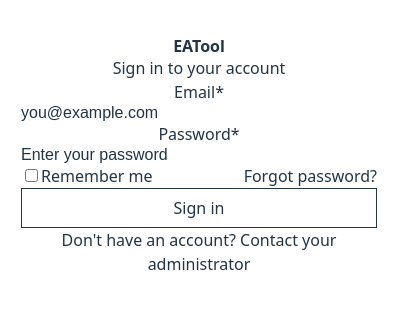
it: LoginPage › should show validation error for invalid email
In the field with placeholder "you@example.com": (199, 113) left=21, top=104, right=377, bottom=122, type "invalid-email"
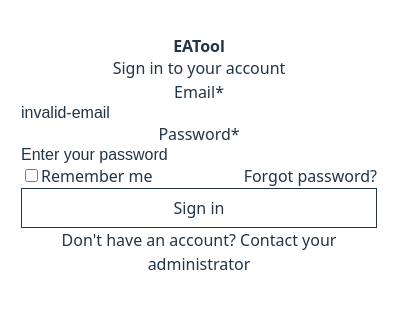
Click the button "Sign in": (199, 208) left=21, top=188, right=377, bottom=228
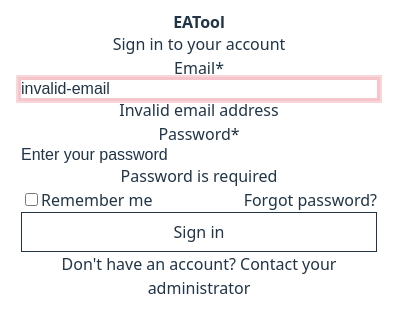
Now the text "Invalid email address" is shown, box left=119, top=99, right=279, bottom=121
